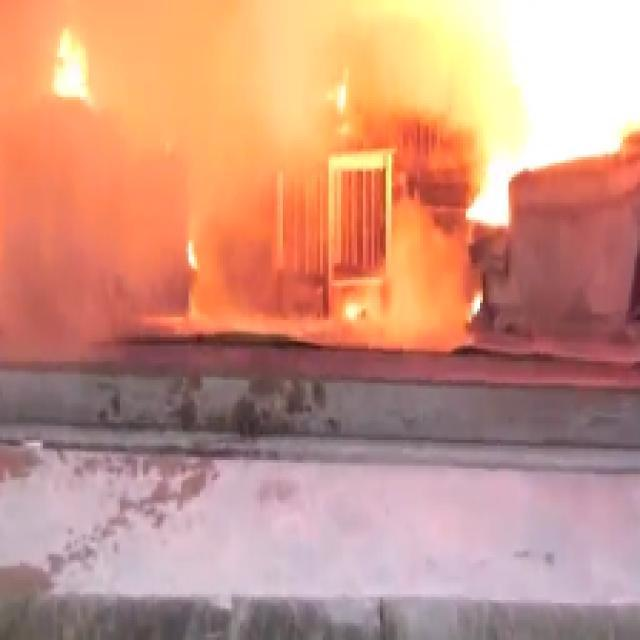Smoke: (151, 21, 446, 130)
